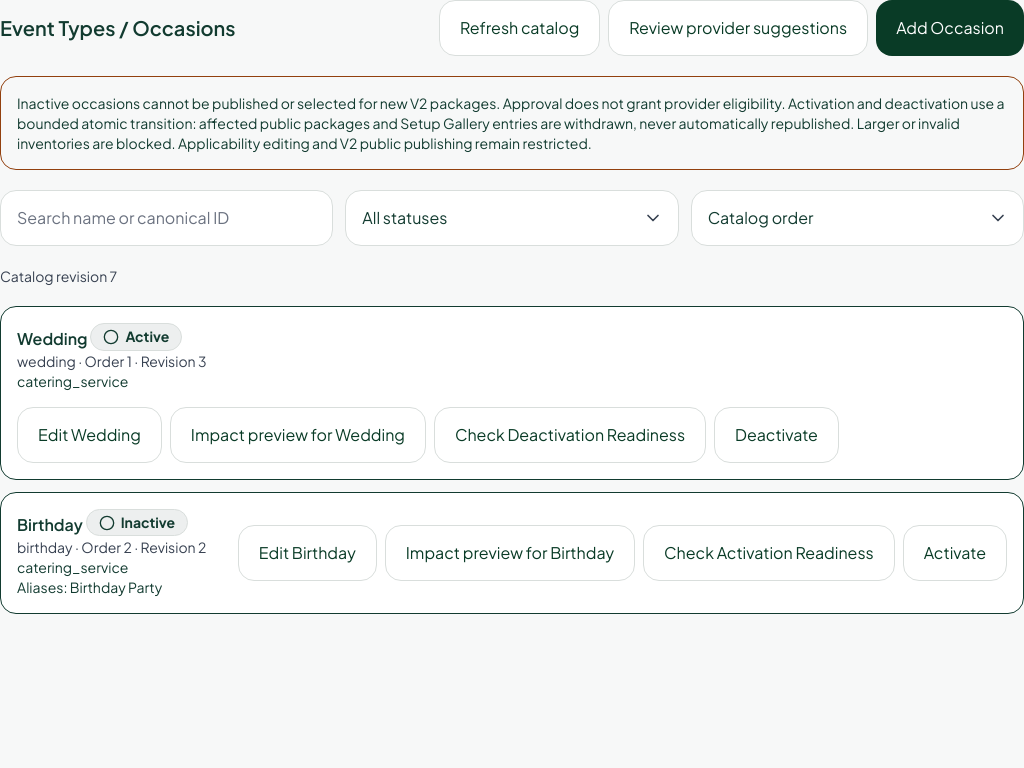
Admin occasion maintenance › shows server-verified checks and blockers without enabling activation
Expected: the button "Edit Wedding" is shown, [17,407,162,463]
Step 1. Click the button with aria-label "Check Activation Readiness for Birthday" → (769, 553), box [643,525,895,581]
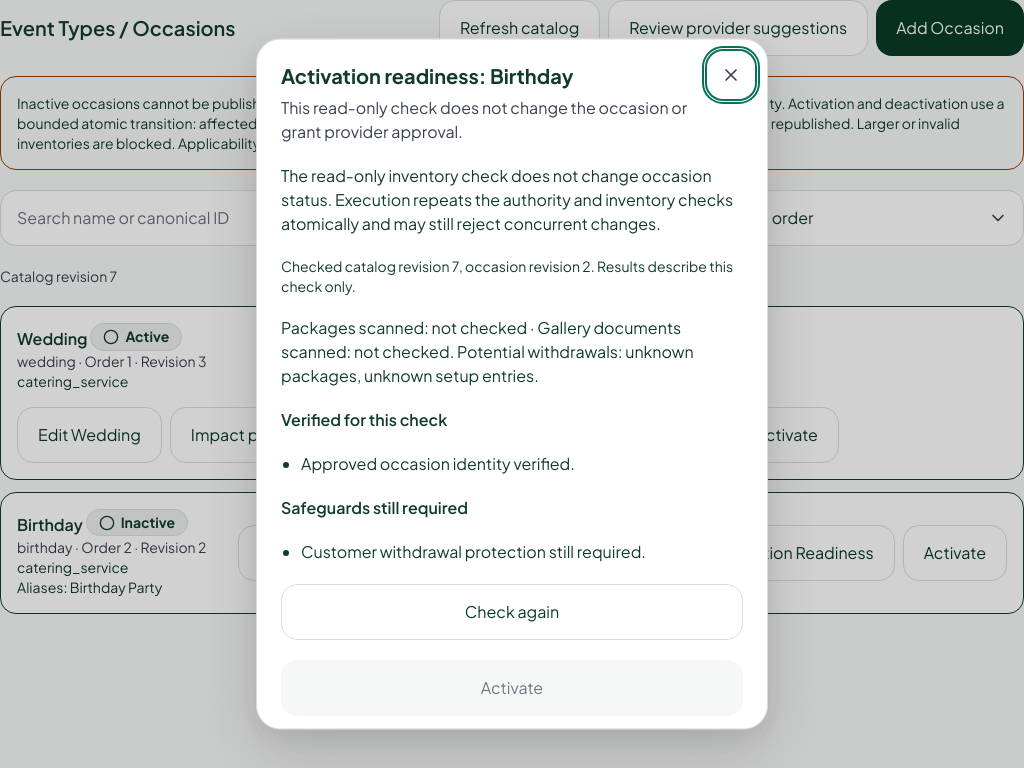
Expected: the list item "Approved occasion identity verified." is shown, [301,453,575,474]
Expected: the list item "Customer withdrawal protection still required." is shown, [301,541,646,562]
Expected: the button "Activate" is disabled, [281,660,743,716]
